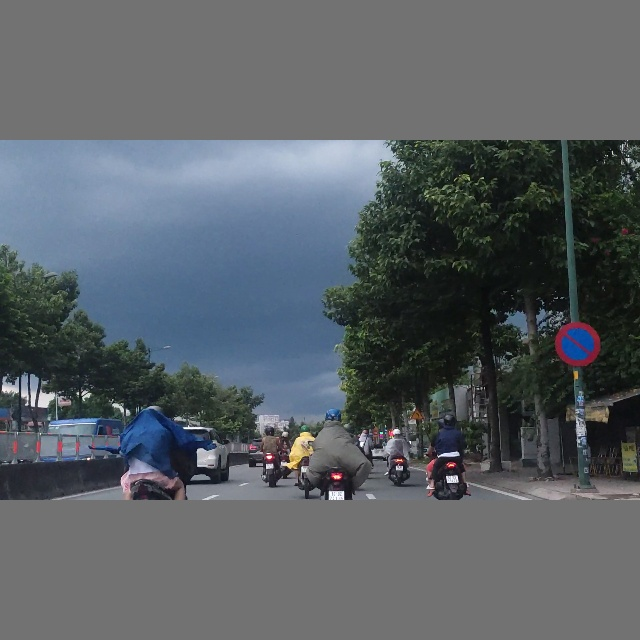P.131a: (555, 321, 601, 367)
W.201a: (410, 408, 425, 420)
